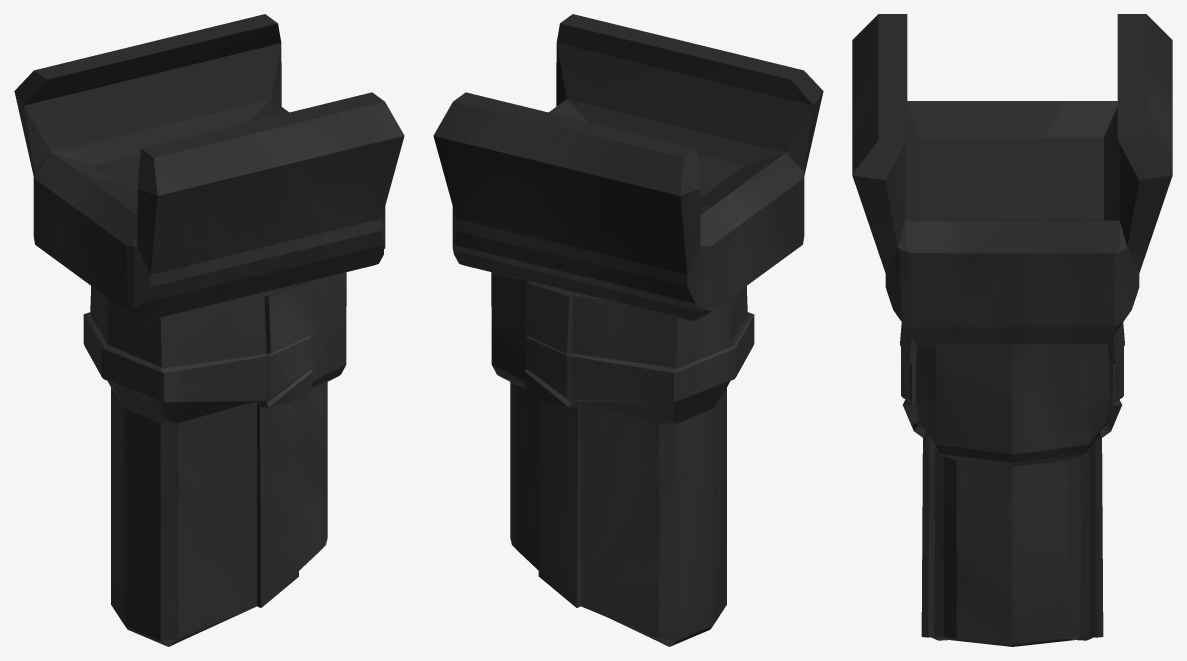
File: ZenithRK-06.fbx
3 views of the same model, side by side, from view 1: azimuth 30°, elevation 25°; view 2: azimuth 150°, elevation 25°; view 3: azimuth 270°, elevation 25° (orthographic). The views are drawn at different scales.
Visible parts, largest first — view 1: ZenithRK-06; view 2: ZenithRK-06; view 3: ZenithRK-06.
Boxes of the visible parts, left/top/right/bottom form: ZenithRK-06: left=14, top=14, right=404, bottom=646; ZenithRK-06: left=433, top=14, right=823, bottom=646; ZenithRK-06: left=852, top=14, right=1172, bottom=646.
Size of the model in its own units: 6.1 by 11.87 by 5.87.
1 material, 1 textured.
